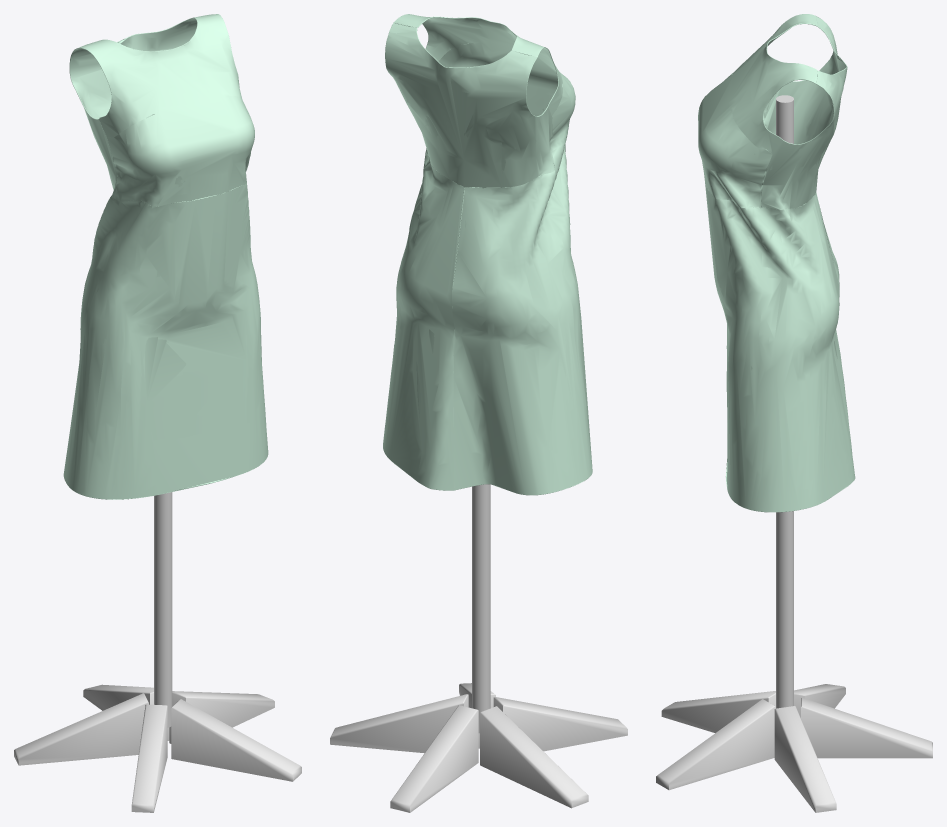
Rendered from female short gaon .fbx.
3 views of the same model, side by side, from view 1: azimuth 30°, elevation 25°; view 2: azimuth 150°, elevation 25°; view 3: azimuth 270°, elevation 25° (orthographic). The views are drawn at different scales.
Visible parts, largest first — view 1: Pattern2D_5105901, Pattern2D_1555215, Cube_3, Cube_1, Pattern2D_1553374, Cylinder, Cube_2, Cube_4, Cube_5; view 2: Pattern2D_5105901, Pattern2D_1553374, Pattern2D_1555215, Cube_1, Cube_5, Cylinder, Cube_4, Cube_2; view 3: Pattern2D_5105901, Pattern2D_1555215, Pattern2D_1553374, Cube_3, Cube_5, Cylinder, Cube_4, Cube_2, Cube_1.
Boxes of the visible parts, x1,y1,x2,y2 form: Pattern2D_5105901: (63,183,268,499); Pattern2D_1555215: (78,14,254,206); Cube_3: (171,699,301,781); Cube_1: (14,693,148,765); Pattern2D_1553374: (69,18,196,196); Cylinder: (154,492,172,727); Cube_2: (131,704,167,812); Cube_4: (169,691,274,743); Cube_5: (83,684,169,740); Pattern2D_5105901: (383,144,592,495); Pattern2D_1553374: (385,22,554,188); Pattern2D_1555215: (394,14,575,170); Cube_1: (480,706,588,808); Cube_5: (390,705,478,812); Cylinder: (472,484,490,733); Cube_4: (330,694,468,753); Cube_2: (493,697,627,751); Pattern2D_5105901: (705,183,855,512); Pattern2D_1555215: (698,14,817,207); Pattern2D_1553374: (761,16,847,209); Cube_3: (656,699,775,790); Cube_5: (801,697,932,758); Cylinder: (776,95,793,708); Cube_4: (774,706,836,812); Cube_2: (661,691,775,732); Cube_1: (794,684,845,717).
Size of the model in its own units: 436 by 1183 by 419.
